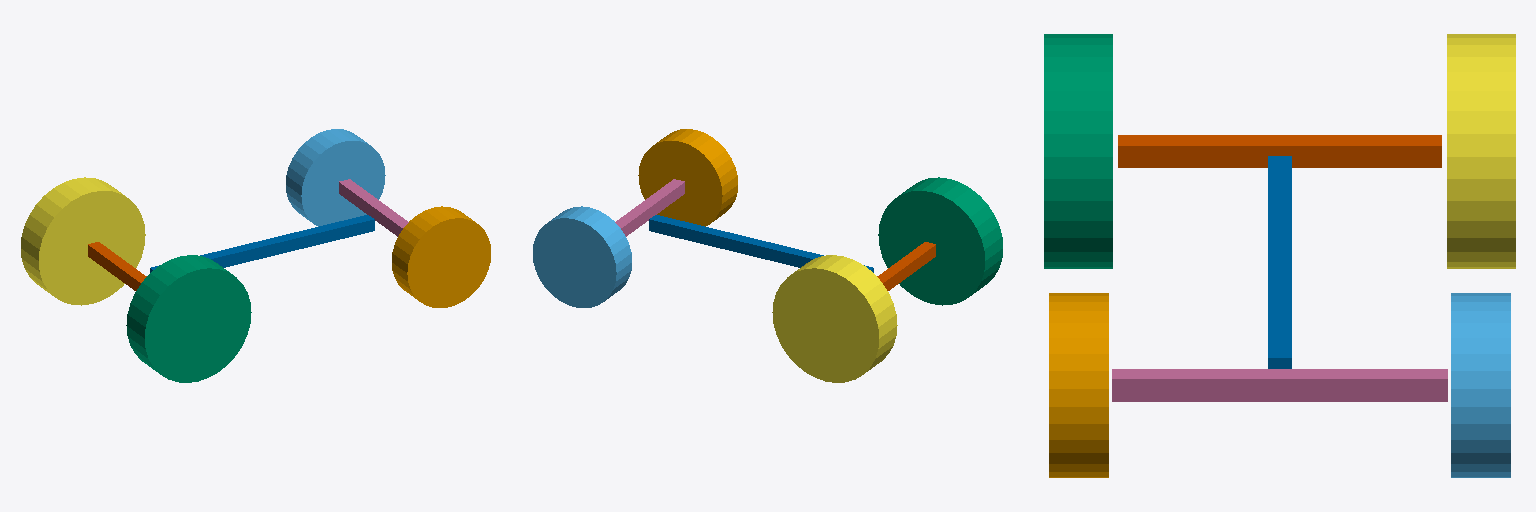
robot.urdf — vehicle:
<?xml version="1.0" ?>
<robot name="vehicle">
  <joint name="vehicle__center_axel__front_axel" type="revolute">
    <parent link="vehicle__center_axel"/>
    <child link="vehicle__front_axel"/>
    <origin xyz="0.78 0   0" rpy="0     0     1.5708"/>
    <axis xyz="0 0 1"/>
    <limit lower="-1.79769e+308" upper="1.79769e+308" effort="-1.0" velocity="-1.0"/>
  </joint>
  
  <joint name="vehicle__center_axel__rear_axel" type="revolute">
    <parent link="vehicle__center_axel"/>
    <child link="vehicle__rear_axel"/>
    <origin xyz="-0.78  0    0" rpy="0     0     1.5708"/>
    <axis xyz="1 0 0"/>
    <limit lower="-1.79769e+308" upper="1.79769e+308" effort="-1.0" velocity="-1.0"/>
  </joint>
  
  <joint name="vehicle__front_axel__front_right_wheel" type="revolute">
    <parent link="vehicle__front_axel"/>
    <child link="vehicle__front_right_wheel"/>
    <origin xyz="-0.56699  0       0" rpy="1.5708  0     -1.5708"/>
    <axis xyz="0 0 1"/>
    <limit lower="-1.79769e+308" upper="1.79769e+308" effort="-1.0" velocity="-1.0"/>
  </joint>
  
  <joint name="vehicle__front_axel__front_left_wheel" type="revolute">
    <parent link="vehicle__front_axel"/>
    <child link="vehicle__front_left_wheel"/>
    <origin xyz="0.56699 0      0" rpy="1.5708  0     -1.5708"/>
    <axis xyz="0 0 1"/>
    <limit lower="-1.79769e+308" upper="1.79769e+308" effort="-1.0" velocity="-1.0"/>
  </joint>
  
  <joint name="vehicle__rear_axel__rear_left_wheel" type="fixed">
    <parent link="vehicle__rear_axel"/>
    <child link="vehicle__rear_left_wheel"/>
    <origin xyz="0.56699 0      0" rpy="1.5708  0     -1.5708"/>
    <axis xyz="0 0 0"/>
    <limit lower="0" upper="0" effort="0" velocity="0"/>
  </joint>
  
  <joint name="vehicle__rear_axel__rear_right_wheel" type="fixed">
    <parent link="vehicle__rear_axel"/>
    <child link="vehicle__rear_right_wheel"/>
    <origin xyz="-0.56699  0       0" rpy="1.5708  0     -1.5708"/>
    <axis xyz="0 0 0"/>
    <limit lower="0" upper="0" effort="0" velocity="0"/>
  </joint>
  
  <link name="vehicle__front_right_wheel">
    <inertial>
      <mass value="2.70774"/>
      <origin xyz="0 0 0" rpy="0 0 0"/>
      <inertia ixx="0.0522819" ixy="0" ixz="0" iyy="0.0522819" iyz="0" izz="0.0915216"/>
    </inertial>
    <collision name="vehicle__collision">
      <origin xyz="0 0 0" rpy="0 0 0"/>
      <geometry>
        <cylinder radius="0.26" length="0.17"/>
      </geometry>
    </collision>
    <visual name="vehicle__visual">
      <origin xyz="0 0 0" rpy="0 0 0"/>
      <geometry>
        <cylinder radius="0.26" length="0.17"/>
      </geometry>
    </visual>
  </link>
  
  <link name="vehicle__front_left_wheel">
    <inertial>
      <mass value="2.70774"/>
      <origin xyz="0 0 0" rpy="0 0 0"/>
      <inertia ixx="0.0522819" ixy="0" ixz="0" iyy="0.0522819" iyz="0" izz="0.0915216"/>
    </inertial>
    <collision name="vehicle__collision">
      <origin xyz="0 0 0" rpy="0 0 0"/>
      <geometry>
        <cylinder radius="0.26" length="0.17"/>
      </geometry>
    </collision>
    <visual name="vehicle__visual">
      <origin xyz="0 0 0" rpy="0 0 0"/>
      <geometry>
        <cylinder radius="0.26" length="0.17"/>
      </geometry>
    </visual>
  </link>
  
  <link name="vehicle__rear_right_wheel">
    <inertial>
      <mass value="4.99293"/>
      <origin xyz="0 0 0" rpy="0 0 0"/>
      <inertia ixx="0.152004" ixy="0" ixz="0" iyy="0.152004" iyz="0" izz="0.27269"/>
    </inertial>
    <collision name="vehicle__collision">
      <origin xyz="0 0 0" rpy="0 0 0"/>
      <geometry>
        <cylinder radius="0.3305" length="0.194"/>
      </geometry>
    </collision>
    <visual name="vehicle__visual">
      <origin xyz="0 0 0" rpy="0 0 0"/>
      <geometry>
        <cylinder radius="0.3305" length="0.194"/>
      </geometry>
    </visual>
  </link>
  
  <link name="vehicle__rear_left_wheel">
    <inertial>
      <mass value="4.99293"/>
      <origin xyz="0 0 0" rpy="0 0 0"/>
      <inertia ixx="0.152004" ixy="0" ixz="0" iyy="0.152004" iyz="0" izz="0.27269"/>
    </inertial>
    <collision name="vehicle__collision">
      <origin xyz="0 0 0" rpy="0 0 0"/>
      <geometry>
        <cylinder radius="0.3305" length="0.194"/>
      </geometry>
    </collision>
    <visual name="vehicle__visual">
      <origin xyz="0 0 0" rpy="0 0 0"/>
      <geometry>
        <cylinder radius="0.3305" length="0.194"/>
      </geometry>
    </visual>
  </link>
  
  <link name="vehicle__center_axel">
    <inertial>
      <mass value="0.495529"/>
      <origin xyz="0 0 0" rpy="0 0 0"/>
      <inertia ixx="0.00040468" ixy="0" ixz="0" iyy="0.0752801" iyz="0" izz="0.0752801"/>
    </inertial>
    <collision name="vehicle__collision">
      <origin xyz="0 0 0" rpy="0 0 0"/>
      <geometry>
        <box size="1.34838 0.07 0.07"/>
      </geometry>
    </collision>
    <visual name="vehicle__visual">
      <origin xyz="0 0 0" rpy="0 0 0"/>
      <geometry>
        <box size="1.34838 0.07 0.07"/>
      </geometry>
    </visual>
  </link>
  
  <link name="vehicle__rear_axel">
    <inertial>
      <mass value="0.336668"/>
      <origin xyz="0 0 0" rpy="0 0 0"/>
      <inertia ixx="0.00027495" ixy="0" ixz="0" iyy="0.023683" iyz="0" izz="0.023683"/>
    </inertial>
    <collision name="vehicle__collision">
      <origin xyz="0 0 0" rpy="0 0 0"/>
      <geometry>
        <box size="0.916103 0.07 0.07"/>
      </geometry>
    </collision>
    <visual name="vehicle__visual">
      <origin xyz="0 0 0" rpy="0 0 0"/>
      <geometry>
        <box size="0.916103 0.07 0.07"/>
      </geometry>
    </visual>
  </link>
  
  <link name="vehicle__front_axel">
    <inertial>
      <mass value="0.348248"/>
      <origin xyz="0 0 0" rpy="0 0 0"/>
      <inertia ixx="0.0002844" ixy="0" ixz="0" iyy="0.026202" iyz="0" izz="0.026202"/>
    </inertial>
    <collision name="vehicle__collision">
      <origin xyz="0 0 0" rpy="0 0 0"/>
      <geometry>
        <box size="0.947614 0.07 0.07"/>
      </geometry>
    </collision>
    <visual name="vehicle__visual">
      <origin xyz="0 0 0" rpy="0 0 0"/>
      <geometry>
        <box size="0.947614 0.07 0.07"/>
      </geometry>
    </visual>
  </link>
  
  <transmission name="tran_front_steering">
    <type>transmission_interface/SimpleTransmission</type>
	  <joint name="vehicle__center_axel__front_axel">
  	  <hardwareInterface>hardware_interface/EffortJointInterface</hardwareInterface>
  	</joint>
    <actuator name="motor__vehicle__center_axel__front_axel">
      <hardwareInterface>hardware_interface/EffortJointInterface</hardwareInterface>
      <mechanicalReduction>1</mechanicalReduction>
    </actuator>
  </transmission>   

  <transmission name="tran_rear_drive">
    <type>transmission_interface/SimpleTransmission</type>
	  <joint name="vehicle__center_axel__rear_axel">
	    <hardwareInterface>hardware_interface/EffortJointInterface</hardwareInterface>
	  </joint>
    <actuator name="motor__vehicle__center_axel__rear_axel">
      <hardwareInterface>hardware_interface/EffortJointInterface</hardwareInterface>
      <mechanicalReduction>1</mechanicalReduction>
    </actuator>
  </transmission>  

  <gazebo>
    <self_collide>1</self_collide>
    
    <plugin name="gazebo_ros_control" filename="libgazebo_ros_control.so">
      <robotNamespace>/</robotNamespace>
    </plugin>
  </gazebo>
</robot>

--- Render facts (derived) ---
Views: 3 orthographic renders of the robot side by side, from view 1: azimuth 30°, elevation 25°; view 2: azimuth 150°, elevation 25°; view 3: azimuth 270°, elevation 25°.
Robot: vehicle — 7 links, 6 joints (4 revolute, 2 fixed); root link vehicle__center_axel; default pose: all joints at 0.
Links seen in each view (by area): view 1: vehicle__rear_right_wheel, vehicle__rear_left_wheel, vehicle__front_right_wheel, vehicle__front_left_wheel, vehicle__center_axel, vehicle__front_axel, vehicle__rear_axel; view 2: vehicle__rear_left_wheel, vehicle__rear_right_wheel, vehicle__front_left_wheel, vehicle__front_right_wheel, vehicle__center_axel, vehicle__front_axel, vehicle__rear_axel; view 3: vehicle__rear_right_wheel, vehicle__rear_left_wheel, vehicle__front_right_wheel, vehicle__front_left_wheel, vehicle__front_axel, vehicle__rear_axel, vehicle__center_axel.
Link boxes in pixels (<box>): vehicle__rear_right_wheel: <box>126,255,251,382</box>; vehicle__rear_left_wheel: <box>21,177,145,305</box>; vehicle__front_right_wheel: <box>392,206,490,307</box>; vehicle__front_left_wheel: <box>286,129,385,226</box>; vehicle__center_axel: <box>150,215,374,272</box>; vehicle__front_axel: <box>339,179,408,236</box>; vehicle__rear_axel: <box>88,242,146,290</box>; vehicle__rear_left_wheel: <box>772,255,897,382</box>; vehicle__rear_right_wheel: <box>878,177,1002,305</box>; vehicle__front_left_wheel: <box>533,206,631,307</box>; vehicle__front_right_wheel: <box>638,129,737,226</box>; vehicle__center_axel: <box>649,215,873,272</box>; vehicle__front_axel: <box>615,179,684,236</box>; vehicle__rear_axel: <box>877,242,935,290</box>; vehicle__rear_right_wheel: <box>1044,34,1112,268</box>; vehicle__rear_left_wheel: <box>1447,34,1515,268</box>; vehicle__front_right_wheel: <box>1049,293,1108,477</box>; vehicle__front_left_wheel: <box>1451,293,1510,477</box>; vehicle__front_axel: <box>1112,369,1447,401</box>; vehicle__rear_axel: <box>1118,135,1441,167</box>; vehicle__center_axel: <box>1268,156,1291,368</box>.
Bounding box of the posed robot: 2.15 × 1.33 × 0.661 m (x, y, z).
Geometry: primitives only (box / cylinder / sphere), no mesh files.